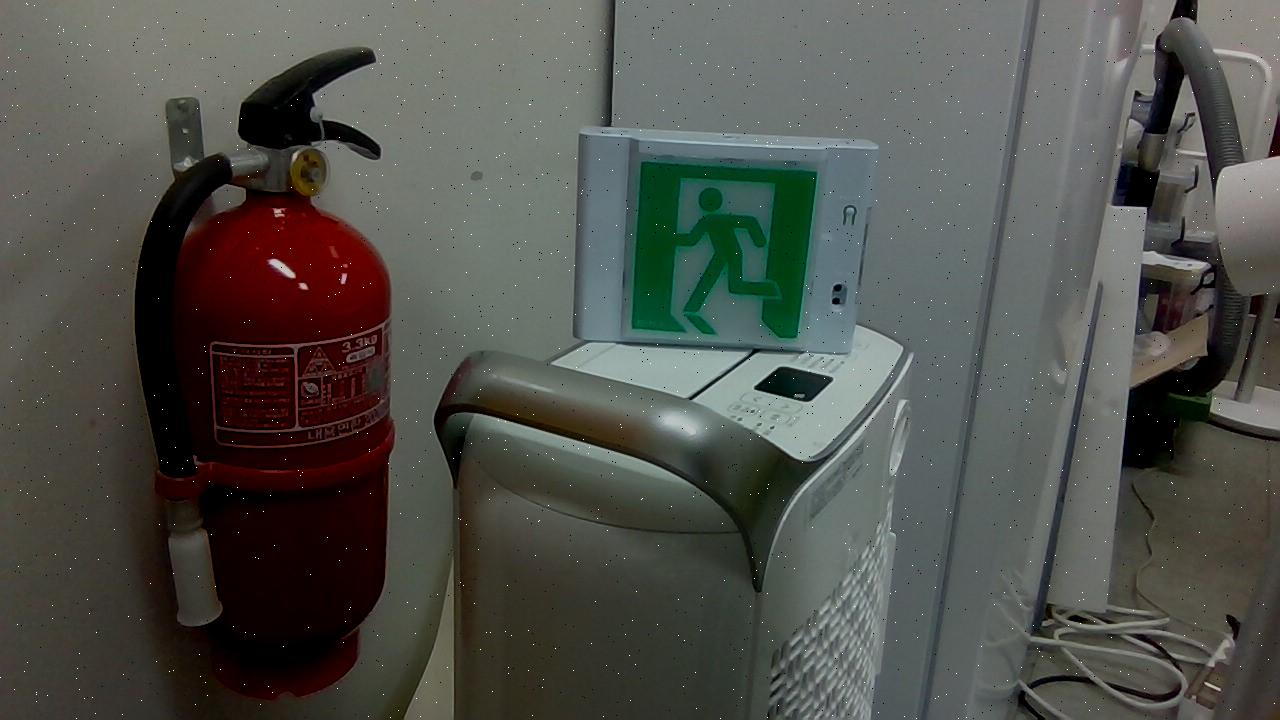emergency_exit: (572, 125, 880, 355)
